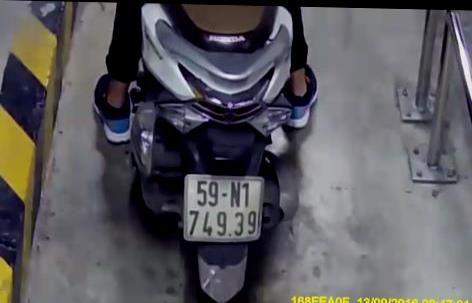License_Plate: (174, 171, 265, 246)
